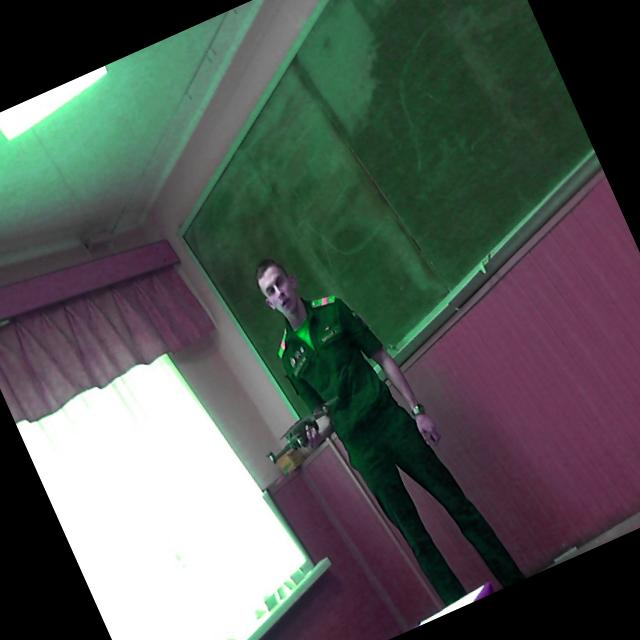drone: (239, 378, 368, 478)
